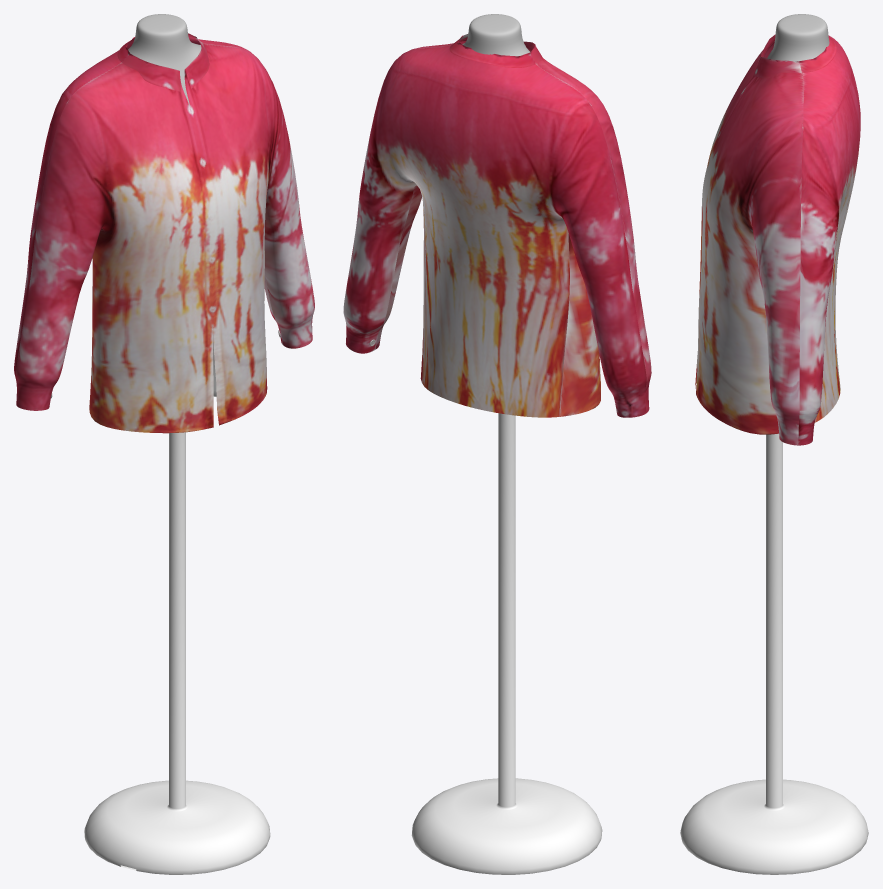
Rendered from long_sleeve_batik_shirt_2 (1).glb.
3 views of the same model, side by side, from view 1: azimuth 30°, elevation 25°; view 2: azimuth 150°, elevation 25°; view 3: azimuth 270°, elevation 25° (orthographic). The views are drawn at different scales.
Visible parts, largest first — view 1: Kemeja, stand_1, Body; view 2: Kemeja, stand_1, Body; view 3: Kemeja, stand_1, Body.
Boxes of the visible parts, <box> form: Kemeja: <box>14,33,314,433</box>; stand_1: <box>84,432,270,874</box>; Body: <box>128,14,201,111</box>; Kemeja: <box>343,34,651,417</box>; stand_1: <box>411,413,602,874</box>; Body: <box>462,14,530,56</box>; Kemeja: <box>695,34,860,445</box>; stand_1: <box>680,433,868,874</box>; Body: <box>767,14,829,61</box>.
Size of the model in its own units: 219 by 573 by 120.
4 materials, 1 textured.
